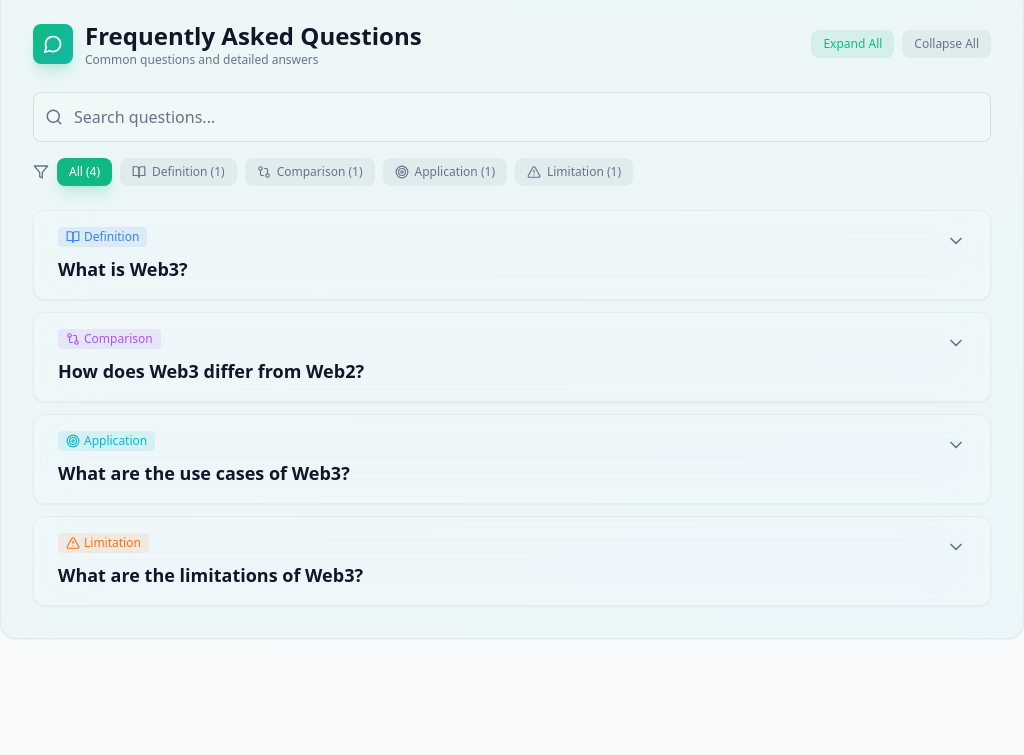
Test: QASection Component › should expand all questions when "Expand All" is clicked
The image size is (1024, 755).
Click the button "Expand All" at (853,44), box [811,30,894,58]
(page scrolled)
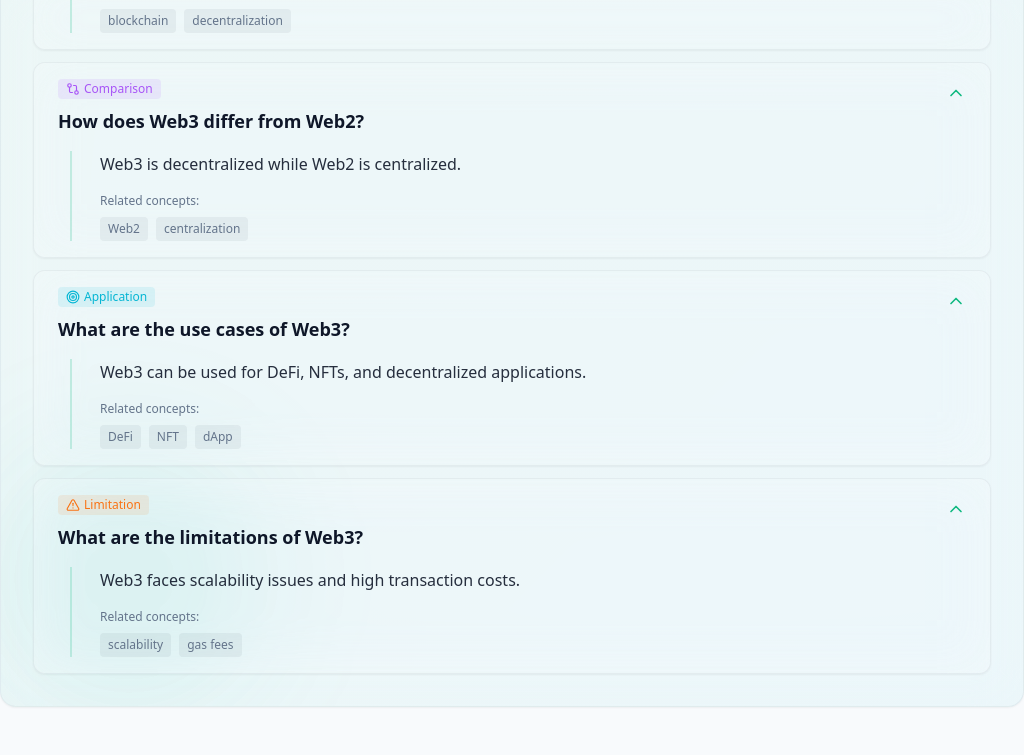
Check: the text "Web3 is decentralized while Web2 is centralized." is shown, box [100,153,461,175]
Check: the text "Web3 can be used for DeFi, NFTs, and decentralized applications." is shown, box [100,361,586,383]
Check: the text "Web3 faces scalability issues and high transaction costs." is shown, box [100,569,520,591]
